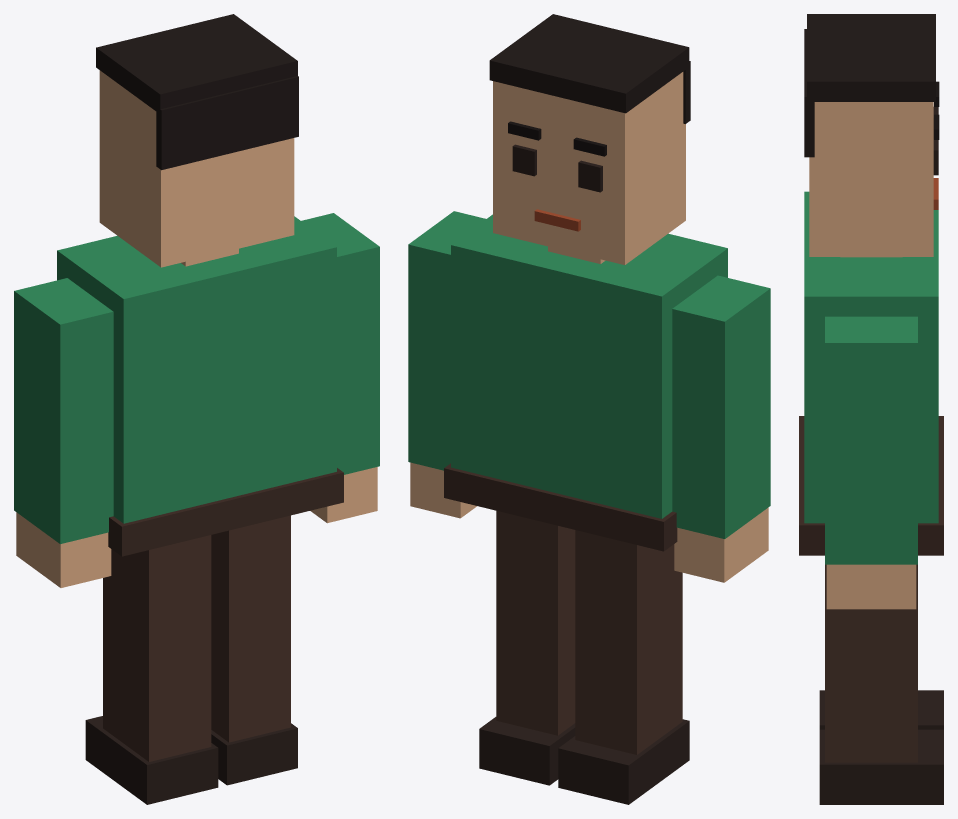
The model's file is cook_wok.glb.
3 views of the same model, side by side, from view 1: azimuth 30°, elevation 25°; view 2: azimuth 150°, elevation 25°; view 3: azimuth 270°, elevation 25° (orthographic).
Visible parts, largest first — view 1: Box9, Box3, Box12, Box1, Box5, Box18, Box7, Box19, Box10, Box2, Box4, Box6 (+1 smaller); view 2: Box9, Box12, Box3, Box1, Box5, Box18, Box7, Box10, Box2, Box6, Box4, Box8 (+2 smaller); view 3: Box7, Box12, Box9, Box5, Box18, Box6, Box8, Box10, Box2, Box19.
Part boxes in pixels (x1=…): Box9: x1=57, y1=216, x2=336, y2=523; Box3: x1=14, y1=278, x2=113, y2=544; Box12: x1=99, y1=70, x2=294, y2=267; Box1: x1=103, y1=535, x2=211, y2=761; Box5: x1=211, y1=515, x2=290, y2=742; Box18: x1=96, y1=14, x2=297, y2=113; Box7: x1=301, y1=213, x2=379, y2=474; Box19: x1=156, y1=76, x2=298, y2=170; Box10: x1=108, y1=468, x2=343, y2=556; Box2: x1=85, y1=716, x2=218, y2=804; Box4: x1=16, y1=512, x2=111, y2=587; Box6: x1=211, y1=723, x2=297, y2=785; Box9: x1=451, y1=214, x2=727, y2=518; Box12: x1=493, y1=72, x2=685, y2=264; Box3: x1=672, y1=275, x2=770, y2=538; Box1: x1=575, y1=530, x2=682, y2=754; Box5: x1=496, y1=510, x2=575, y2=735; Box18: x1=489, y1=14, x2=689, y2=113; Box7: x1=408, y1=211, x2=485, y2=470; Box10: x1=444, y1=463, x2=677, y2=551; Box2: x1=558, y1=719, x2=689, y2=804; Box6: x1=479, y1=717, x2=575, y2=785; Box4: x1=674, y1=507, x2=768, y2=582; Box8: x1=410, y1=462, x2=476, y2=518; Box7: x1=825, y1=316, x2=917, y2=564; Box12: x1=809, y1=102, x2=933, y2=256; Box9: x1=804, y1=191, x2=938, y2=523; Box5: x1=825, y1=564, x2=917, y2=762; Box18: x1=807, y1=14, x2=935, y2=101; Box6: x1=819, y1=729, x2=943, y2=804; Box8: x1=826, y1=564, x2=916, y2=609; Box10: x1=799, y1=416, x2=943, y2=555; Box2: x1=819, y1=690, x2=943, y2=729; Box19: x1=804, y1=29, x2=814, y2=157.
Bounding box in the file's own units: 0.8165 × 1.74 × 0.3175.
